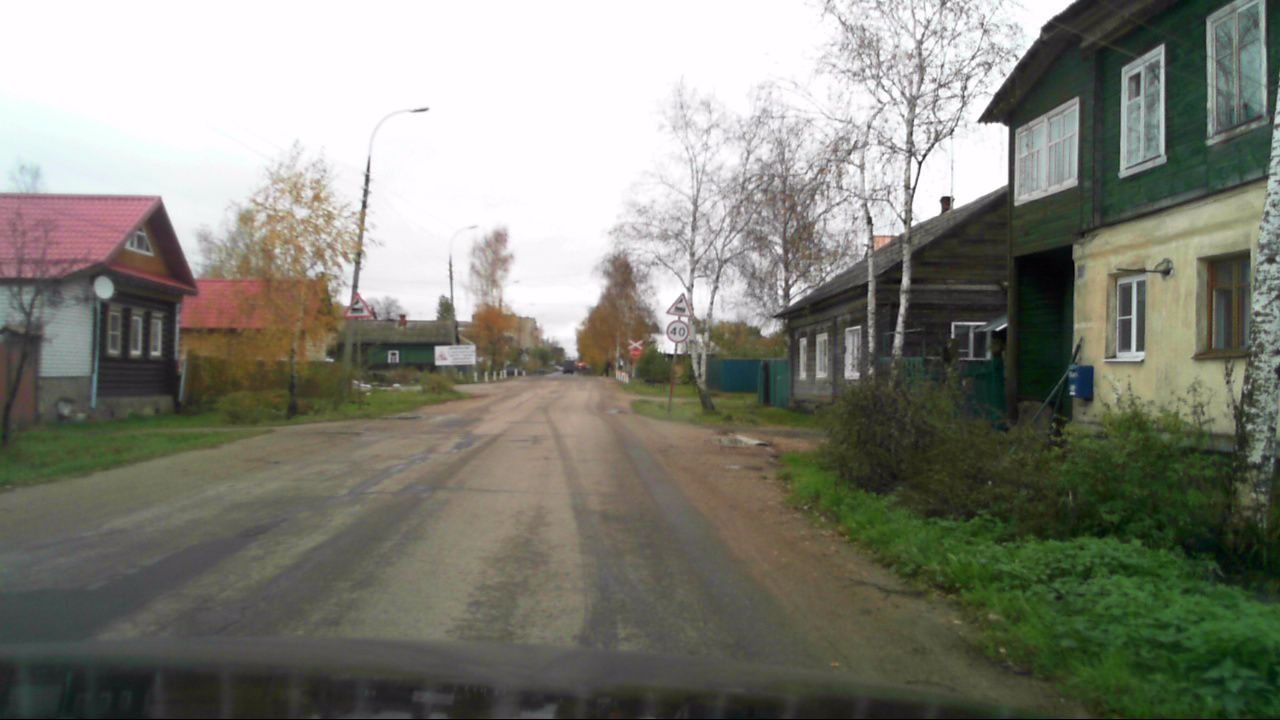speed_warning_40: (666, 320, 689, 343)
